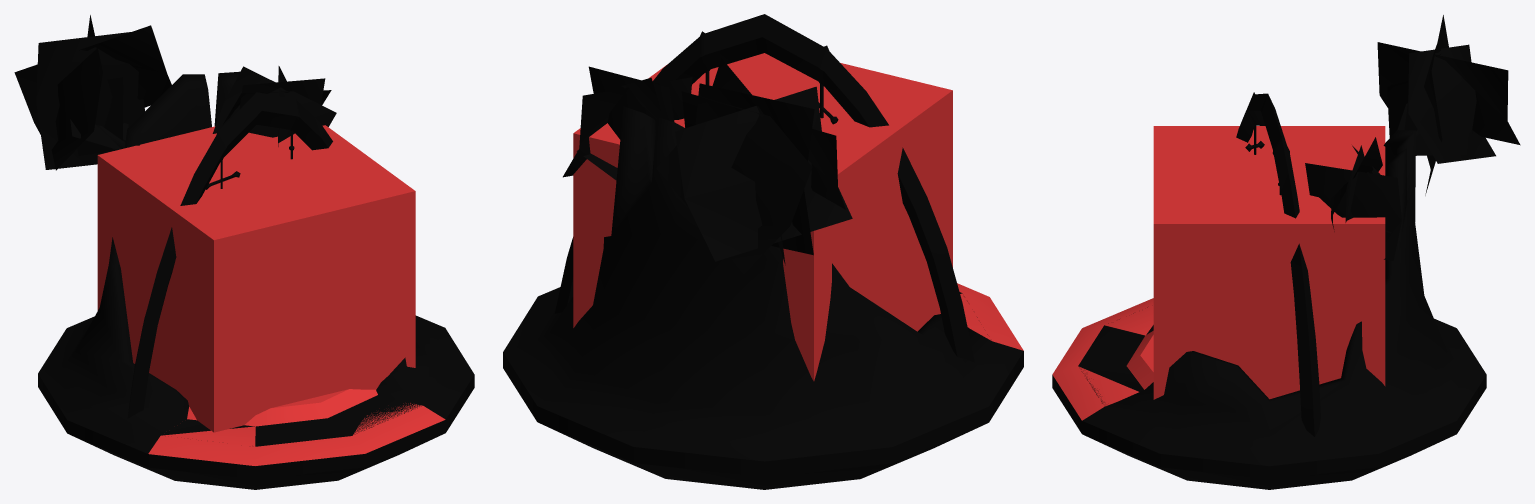
File: tr_module_kami(wip).max.fobj.obj
3 renders of one model, left to right at view 1: azimuth 30°, elevation 25°; view 2: azimuth 150°, elevation 25°; view 3: azimuth 270°, elevation 25°, orthographic. The views are drawn at different scales.
Visible parts, largest first — view 1: initialShadingGroup TR_module_kami_cluster, TR_module_kami, TR_module_kami_feuille_01, TR_module_kami_col, TR_module_kami_feuille_02; view 2: TR_module_kami, initialShadingGroup TR_module_kami_cluster, TR_module_kami_feuille_01, TR_module_kami_feuille_02, TR_module_kami_col; view 3: TR_module_kami, initialShadingGroup TR_module_kami_cluster, TR_module_kami_feuille_01, TR_module_kami_col, TR_module_kami_feuille_02.
Boxes of the visible parts, x1,y1,x2,y2 form: initialShadingGroup TR_module_kami_cluster: (97,125,415,432); TR_module_kami: (38,71,474,489); TR_module_kami_feuille_01: (14,15,171,170); TR_module_kami_col: (148,389,445,465); TR_module_kami_feuille_02: (212,66,336,146); TR_module_kami: (503,14,1023,489); initialShadingGroup TR_module_kami_cluster: (573,53,952,381); TR_module_kami_feuille_01: (656,58,852,273); TR_module_kami_feuille_02: (563,66,692,180); TR_module_kami_col: (957,283,1023,350); TR_module_kami: (1052,92,1486,489); initialShadingGroup TR_module_kami_cluster: (1153,126,1385,399); TR_module_kami_feuille_01: (1377,15,1520,195); TR_module_kami_col: (1052,298,1153,420); TR_module_kami_feuille_02: (1305,137,1401,260).
Size of what is drawn, in the model's own units: 1500 by 1456 by 1617.
